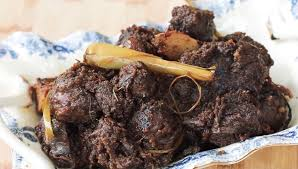rendang: (30, 1, 293, 166)
